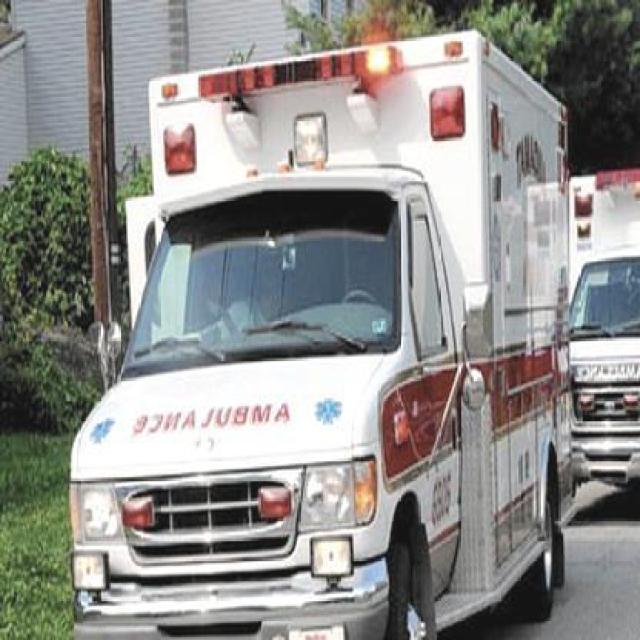Ambulance: (48, 11, 575, 640), (560, 112, 638, 514)
